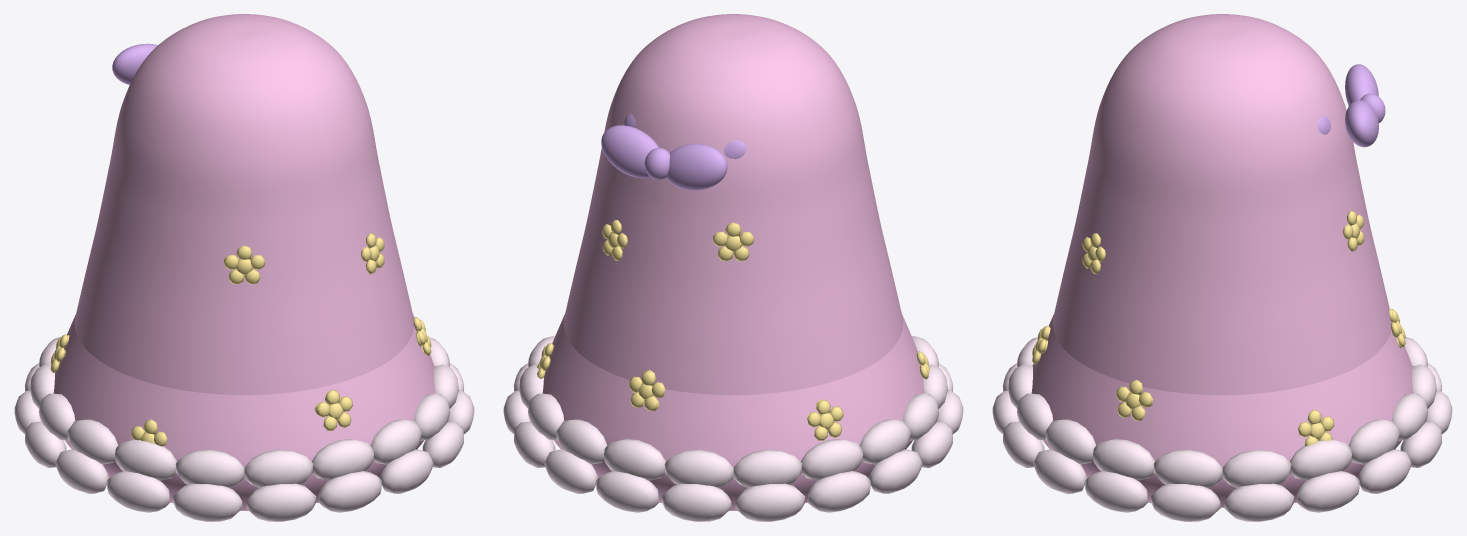
Rendered from party_dress.glb.
3 renders of one model, left to right at view 1: azimuth 30°, elevation 25°; view 2: azimuth 150°, elevation 25°; view 3: azimuth 270°, elevation 25°, orthographic.
Parts seen in each view (by area): view 1: BodyBoy, BodyGirl; view 2: BodyBoy, BodyGirl; view 3: BodyBoy, BodyGirl.
Boxes of the visible parts, x1,y1,x2,y2 form: BodyBoy: (30, 14, 458, 487); BodyGirl: (14, 314, 474, 521); BodyBoy: (519, 14, 947, 487); BodyGirl: (503, 114, 963, 521); BodyBoy: (1008, 14, 1436, 487); BodyGirl: (992, 116, 1452, 521).
Size of the model in its own units: 0.503 by 0.532 by 0.5082.
